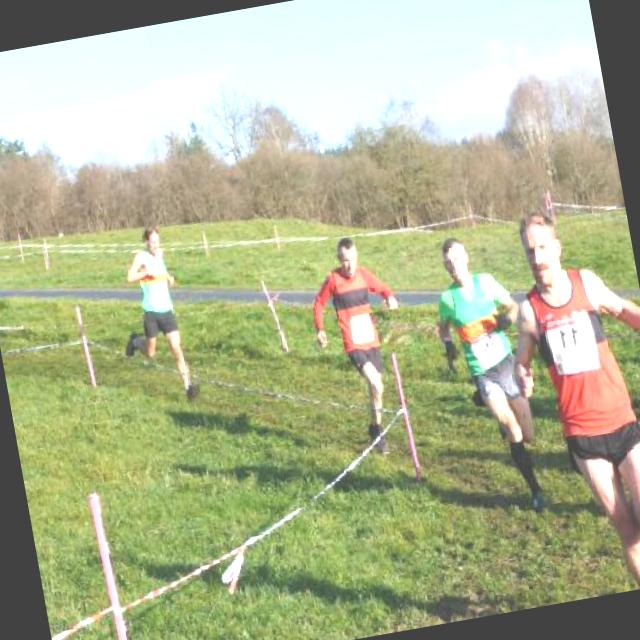Person: (479, 198, 640, 603), (418, 224, 557, 519), (304, 229, 426, 466), (102, 223, 197, 413)
